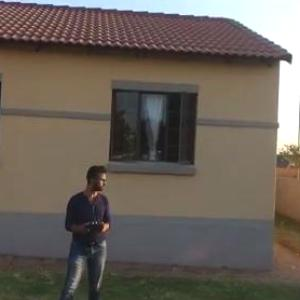follow: (54, 162, 118, 299)
